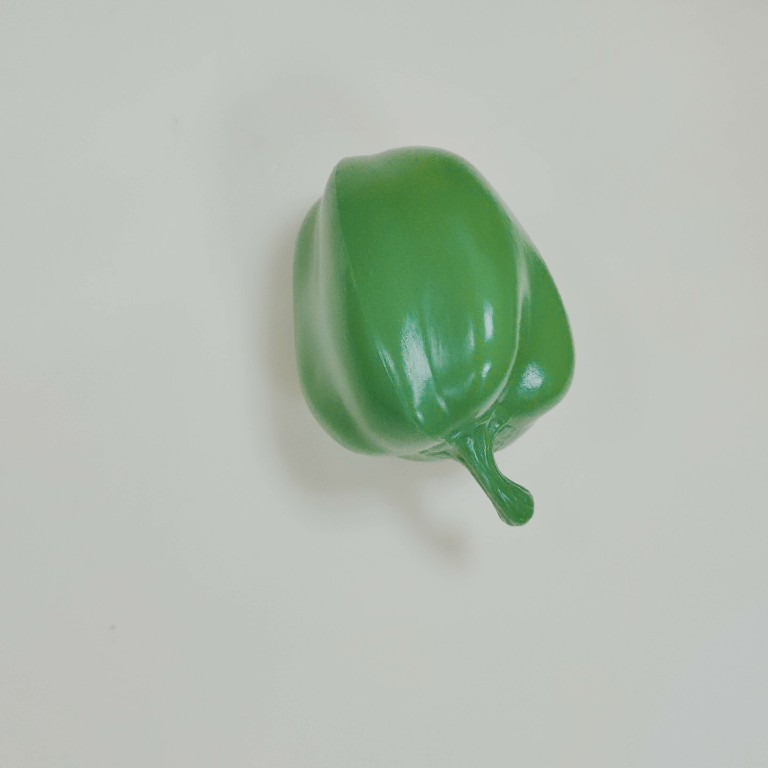fruit_pepper: (285, 126, 585, 539)
